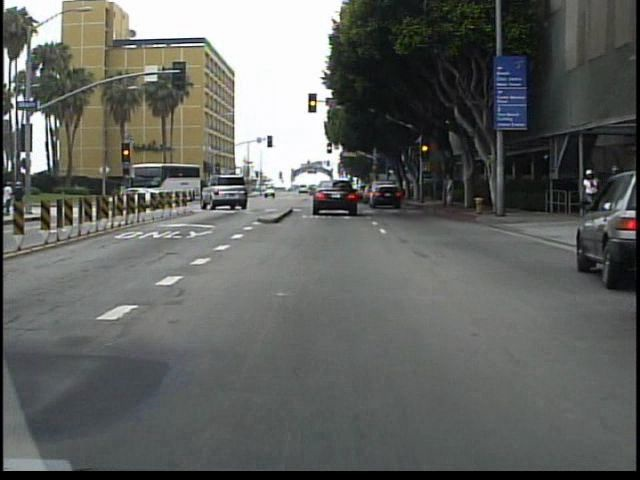person: (440, 168, 456, 211), (16, 176, 28, 213), (7, 177, 16, 217)
